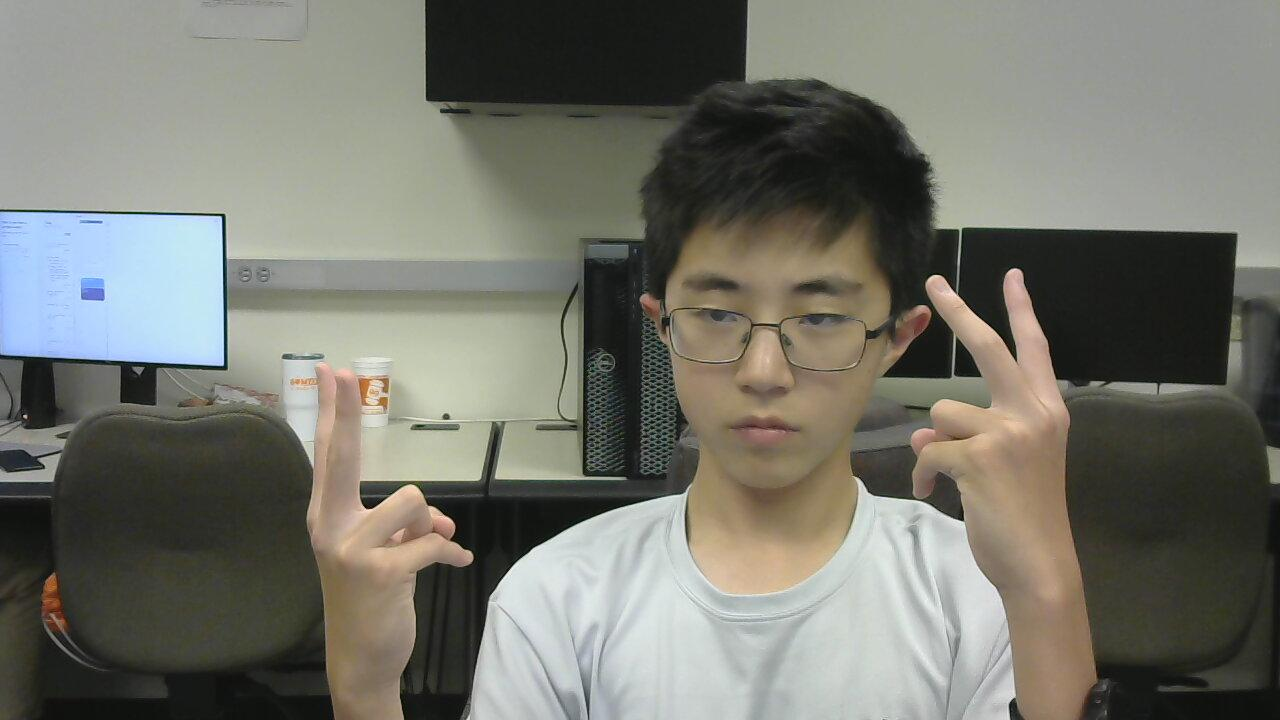peace: (911, 254, 1102, 616), (288, 342, 446, 701)
